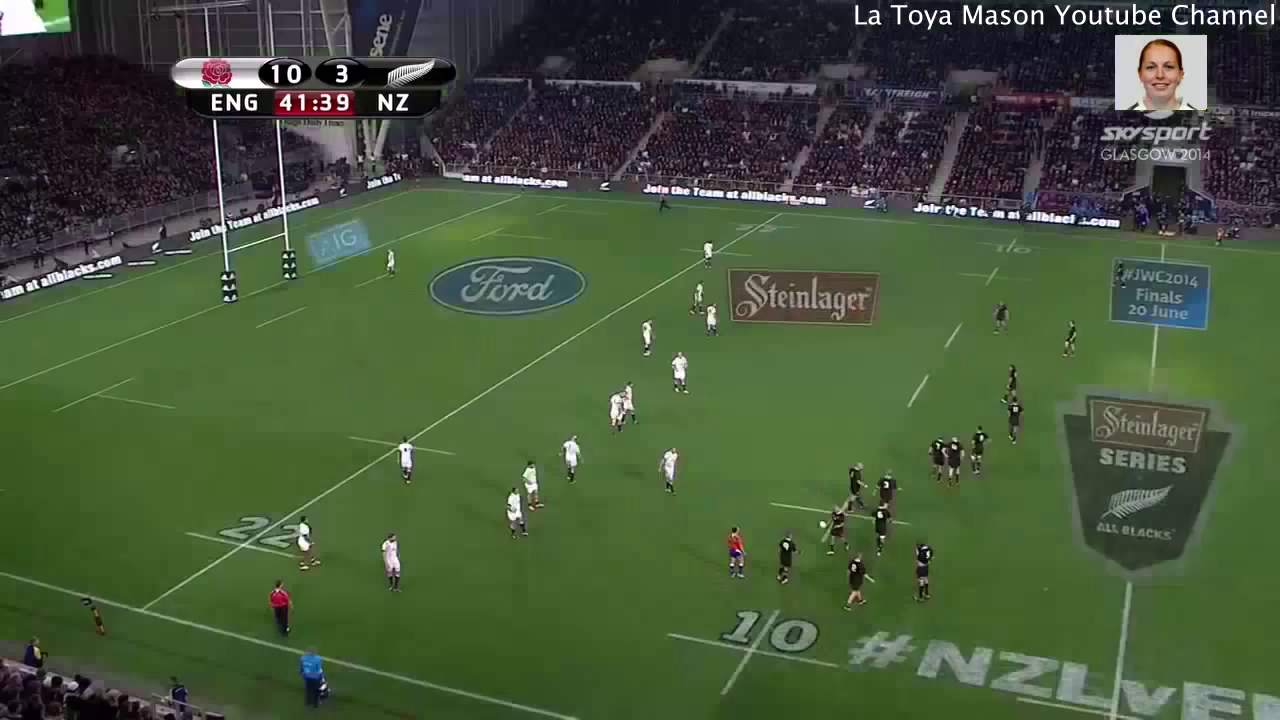10_metre: (654, 601, 849, 702), (763, 478, 918, 554), (953, 261, 1035, 295), (970, 230, 1045, 257)
ball: (815, 515, 832, 535)
player: (376, 530, 414, 597), (290, 508, 325, 579), (767, 525, 805, 588), (960, 423, 999, 483), (518, 457, 552, 523), (841, 548, 872, 619), (818, 499, 852, 557), (869, 491, 898, 555), (995, 351, 1031, 402), (502, 486, 533, 544), (555, 430, 588, 483), (943, 434, 974, 490), (721, 524, 751, 580), (657, 438, 685, 497), (1001, 391, 1031, 445), (906, 537, 931, 597), (843, 456, 868, 515), (667, 346, 693, 401), (394, 434, 418, 487), (872, 465, 899, 510), (635, 312, 661, 356), (603, 385, 625, 436), (688, 275, 712, 318), (1059, 316, 1081, 361), (992, 297, 1014, 340), (619, 378, 637, 427), (928, 433, 946, 481), (382, 240, 402, 282), (706, 301, 726, 342), (1109, 254, 1128, 291), (699, 235, 718, 270)
post: (207, 108, 301, 312)
